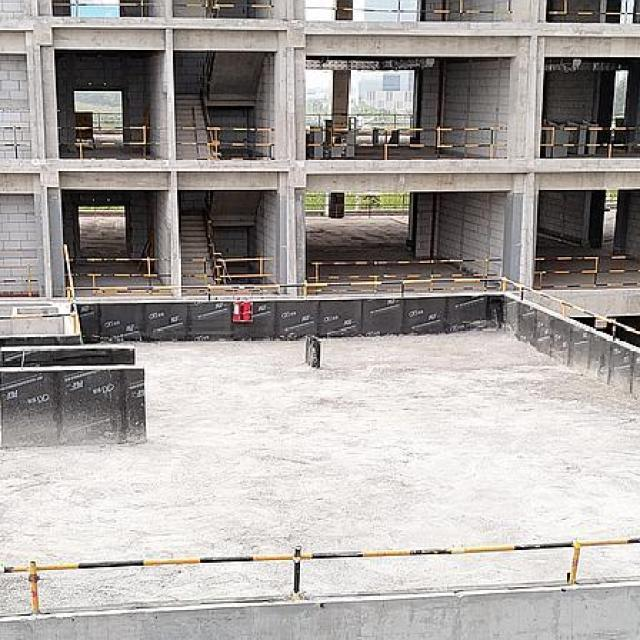edge_guardrail: (0, 243, 640, 338), (0, 534, 640, 619), (305, 121, 508, 160), (302, 0, 514, 24), (305, 257, 504, 282), (52, 0, 275, 19), (533, 254, 640, 289), (175, 124, 275, 160), (57, 125, 162, 159), (538, 125, 640, 158), (180, 251, 276, 286), (69, 256, 171, 287), (547, 0, 640, 24), (0, 262, 41, 297), (0, 124, 31, 159)
